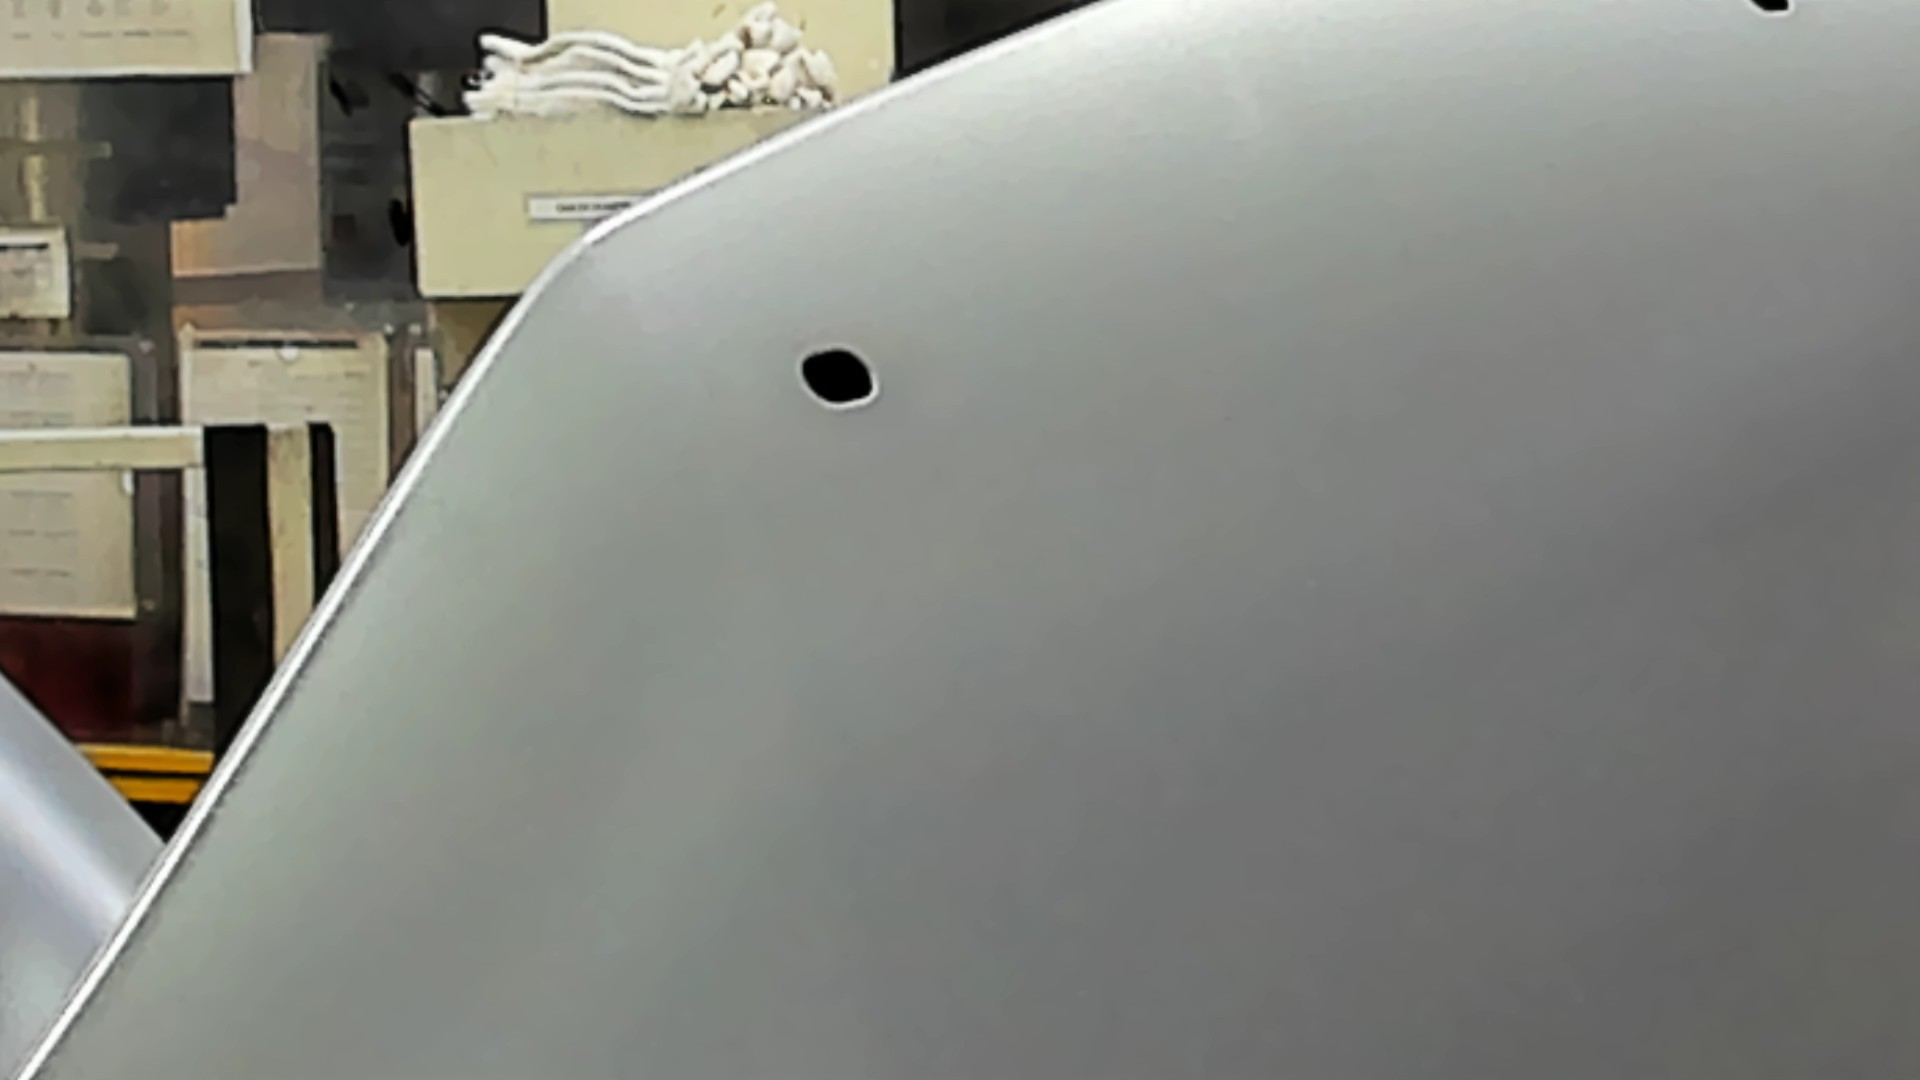amorfo: (793, 345, 884, 413), (1746, 1, 1803, 20)
